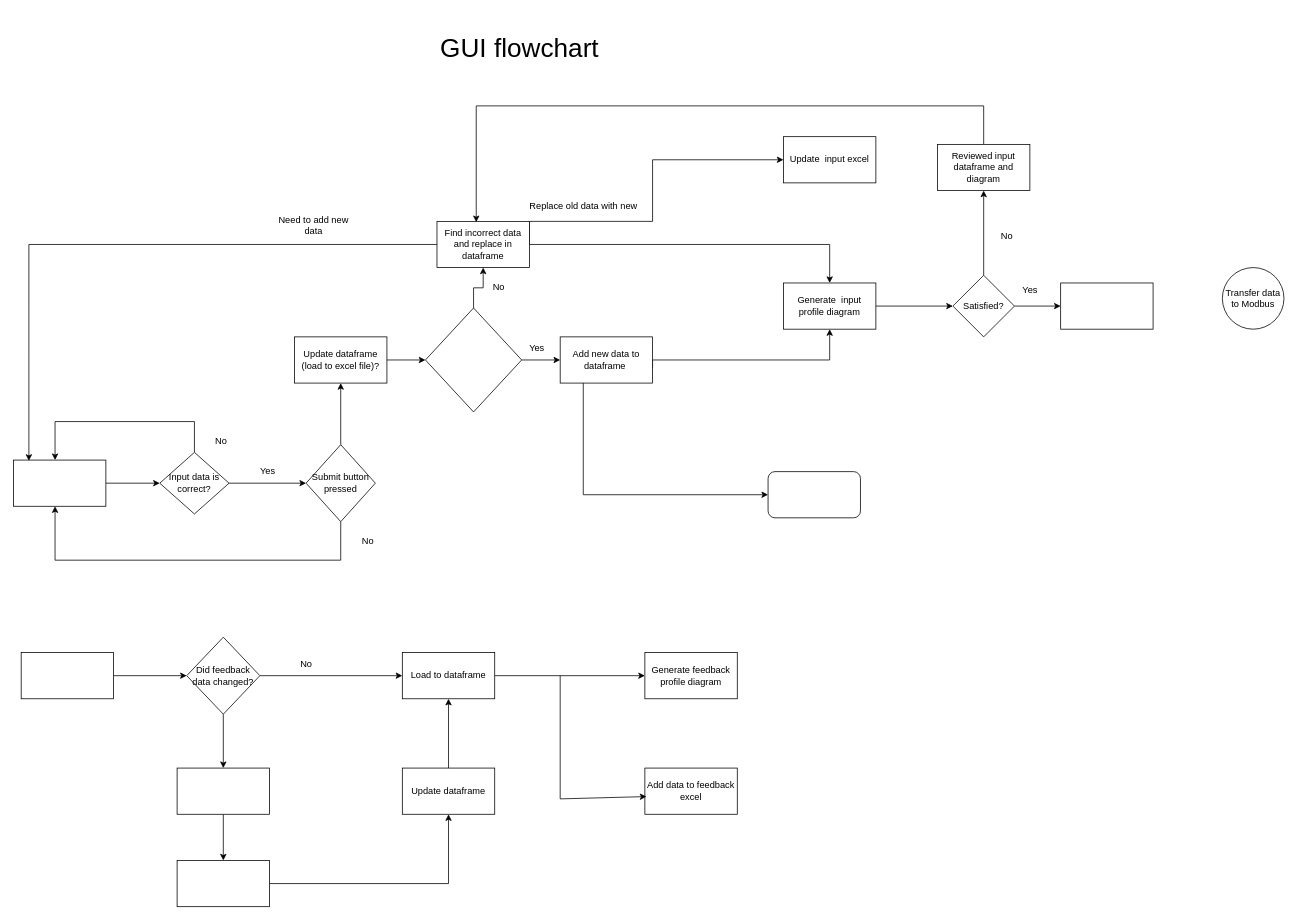
Some shapes in this 1297 by 920 pixel diagram are drawn without their labels. Here are the shapes that lost their labels. From the top down, the centre of each, then its label:
At [1106,305]: "Press confirmation button".
At [473,359]: "Previous input data in dataframe is correct".
At [59,482]: "Input form".
At [813,494]: "Add data to excel".
At [67,675]: "Feedback data".
At [223,790]: "Use cache hoop to catch change".
At [223,883]: "Rerun script".
